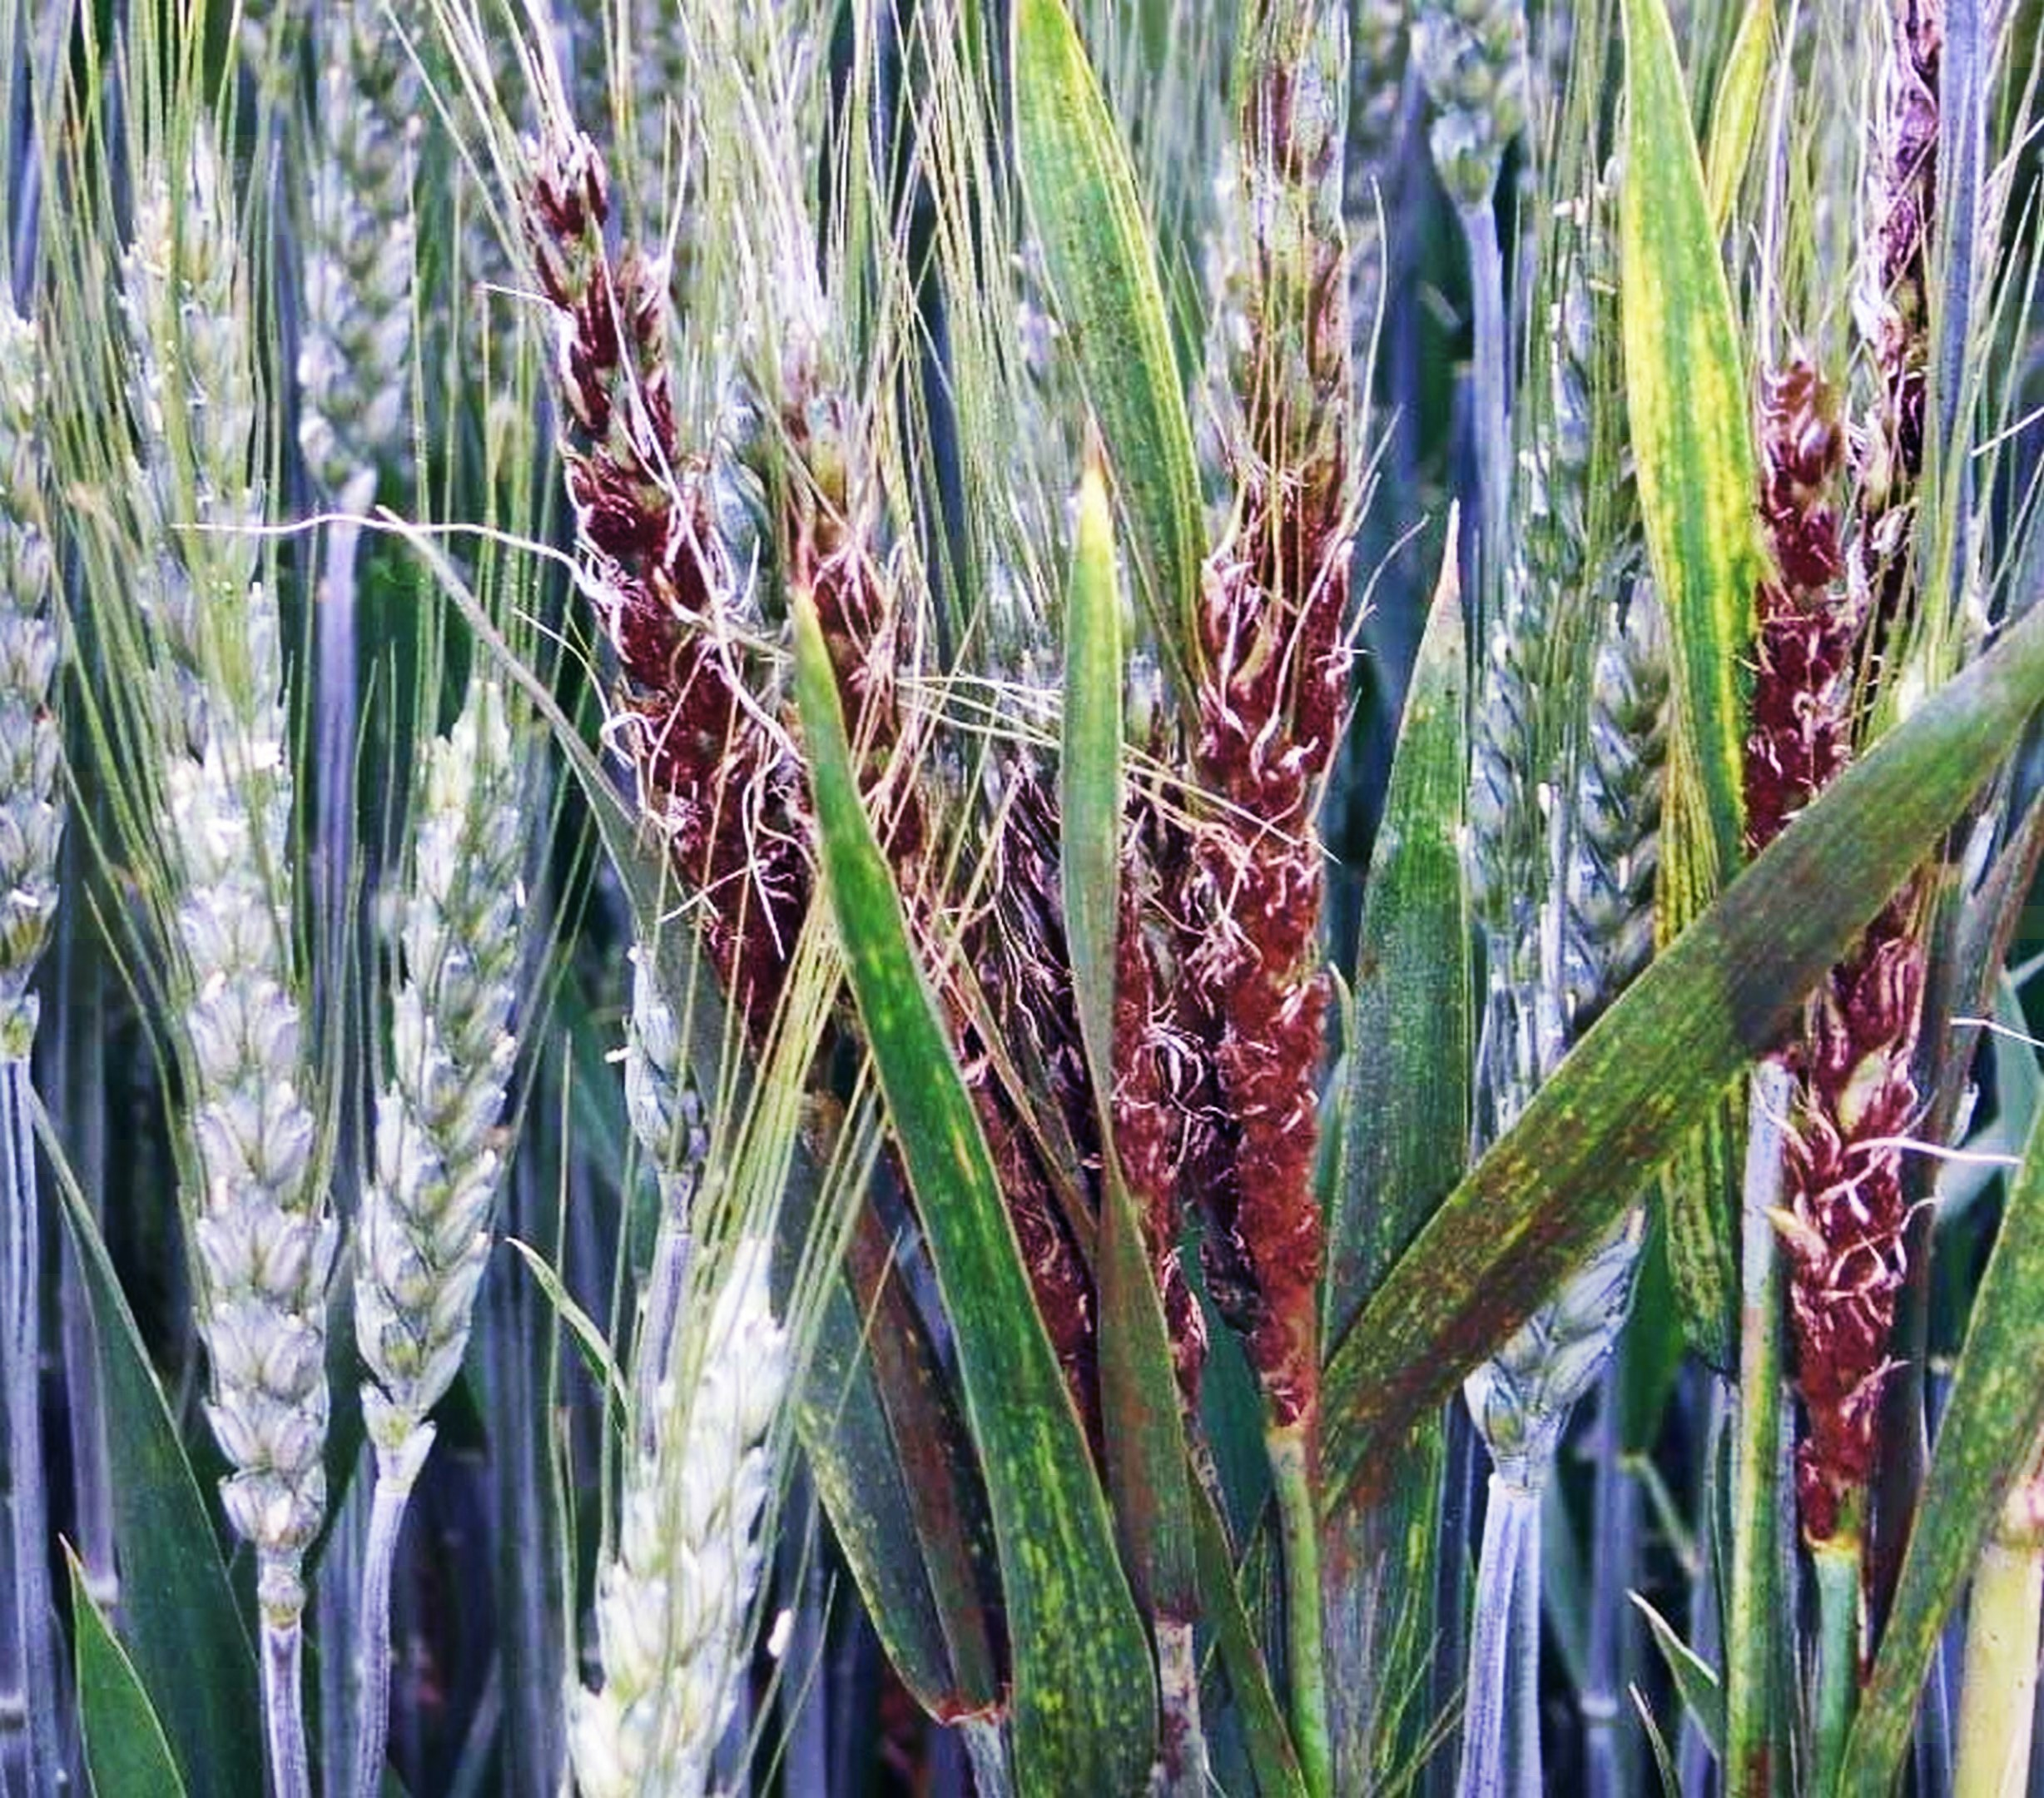Wheat Loose Smut: (518, 167, 824, 1024), (1079, 560, 1373, 1375), (1769, 930, 1924, 1528), (1719, 339, 1868, 864)
